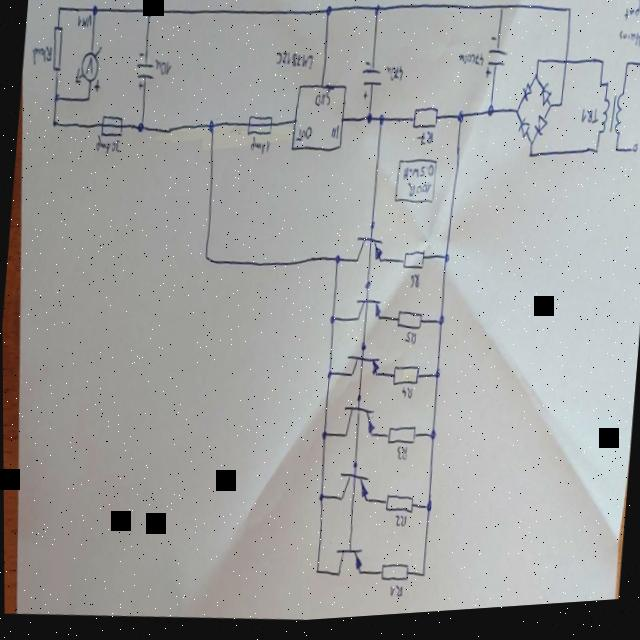capacitor: (483, 40, 509, 87), (358, 63, 383, 106), (133, 53, 156, 94)
crossover: (561, 65, 568, 74)
diode: (532, 120, 548, 146), (516, 122, 531, 147), (537, 88, 551, 114), (519, 88, 532, 110)
junction: (206, 120, 215, 137), (454, 114, 463, 131), (372, 7, 380, 25), (202, 252, 210, 268), (136, 121, 144, 136), (486, 110, 494, 125), (364, 116, 372, 131), (333, 256, 341, 270), (145, 7, 153, 20), (436, 320, 444, 333), (376, 118, 384, 131), (323, 9, 331, 22), (91, 4, 98, 18), (316, 495, 324, 507), (358, 345, 366, 357), (428, 435, 435, 448), (362, 285, 370, 296), (424, 506, 431, 518), (319, 433, 326, 445), (442, 257, 449, 269), (432, 374, 439, 386), (532, 79, 539, 91), (327, 318, 334, 330), (324, 373, 331, 384), (497, 9, 504, 19), (526, 158, 533, 168), (513, 114, 520, 124), (350, 464, 357, 474), (354, 399, 361, 408), (367, 226, 374, 235), (624, 68, 630, 78), (593, 154, 599, 164), (598, 65, 604, 75), (565, 13, 571, 23), (557, 108, 563, 117), (535, 64, 541, 73), (56, 5, 62, 14), (53, 93, 58, 103), (613, 154, 619, 162), (527, 146, 533, 154), (545, 109, 551, 117), (313, 571, 318, 580), (597, 88, 602, 97), (51, 120, 56, 128), (85, 95, 90, 103), (419, 576, 424, 584), (604, 88, 609, 96)
resistor: (384, 428, 416, 453), (411, 109, 438, 137), (390, 368, 419, 394), (382, 498, 413, 521), (50, 24, 64, 74), (377, 566, 408, 588), (394, 314, 422, 337), (400, 253, 424, 279)
terminal: (630, 151, 638, 163), (638, 67, 640, 80)
text: (274, 51, 314, 78), (402, 168, 433, 189), (92, 136, 120, 159), (456, 56, 484, 76), (621, 5, 640, 34), (616, 35, 640, 57), (405, 185, 431, 205), (248, 138, 270, 161), (30, 44, 52, 67), (152, 59, 173, 81), (384, 68, 404, 89), (579, 114, 598, 134), (415, 135, 433, 154), (295, 129, 312, 147), (313, 95, 330, 113), (76, 14, 92, 32), (387, 588, 402, 605), (394, 450, 407, 468), (392, 518, 406, 534), (402, 336, 416, 352), (407, 278, 419, 296), (399, 391, 412, 406), (329, 128, 338, 145)
transformer: (594, 97, 625, 148)
transistor: (340, 406, 375, 447), (335, 471, 370, 510), (350, 236, 385, 273), (330, 550, 362, 584), (344, 355, 379, 386), (351, 302, 381, 328)
